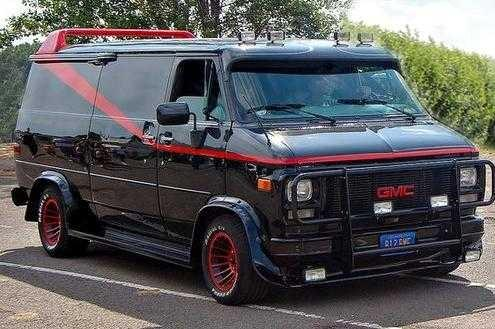car: (24, 19, 479, 305)
